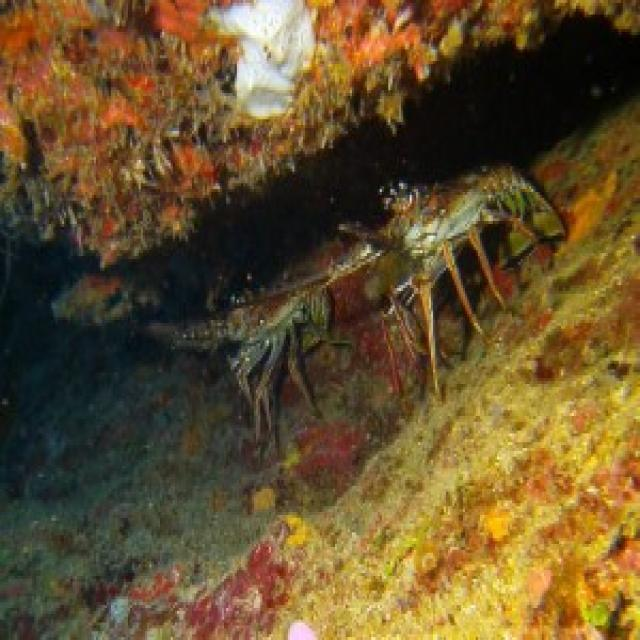lobsters: (9, 116, 630, 458)
